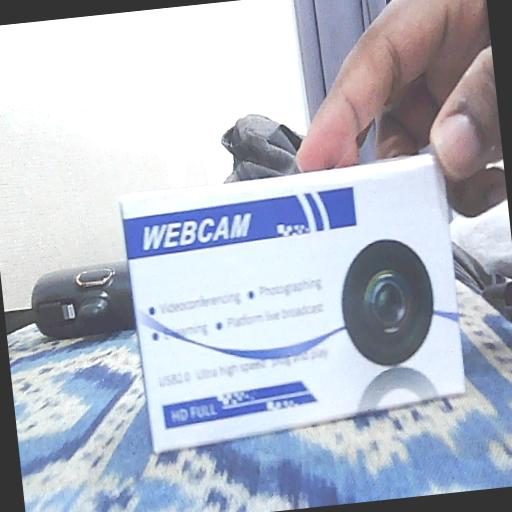webcam_box: (118, 149, 473, 458)
